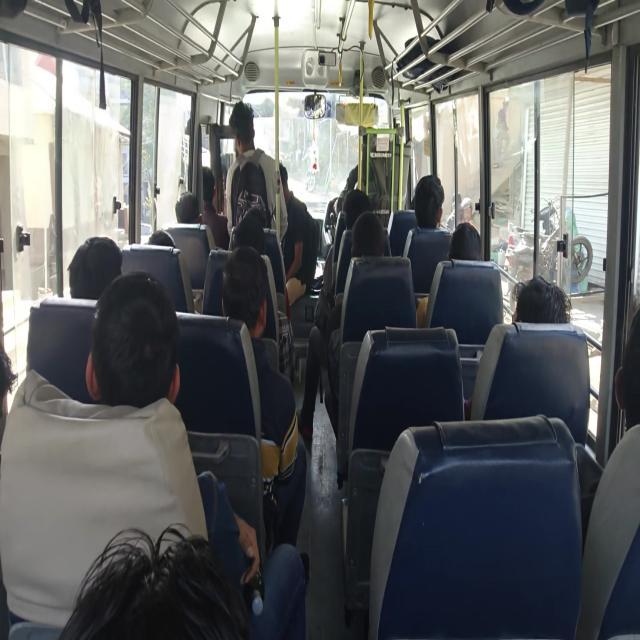person: (85, 269, 307, 639), (220, 245, 308, 566), (59, 522, 249, 639), (575, 306, 639, 638), (296, 210, 388, 439), (465, 274, 572, 420), (225, 100, 287, 238), (416, 220, 482, 328), (278, 162, 316, 302), (402, 174, 448, 258), (66, 236, 122, 300), (511, 275, 572, 324), (201, 166, 229, 250), (413, 174, 445, 230), (448, 221, 482, 261), (175, 190, 201, 223), (457, 196, 479, 232), (446, 194, 462, 230)
